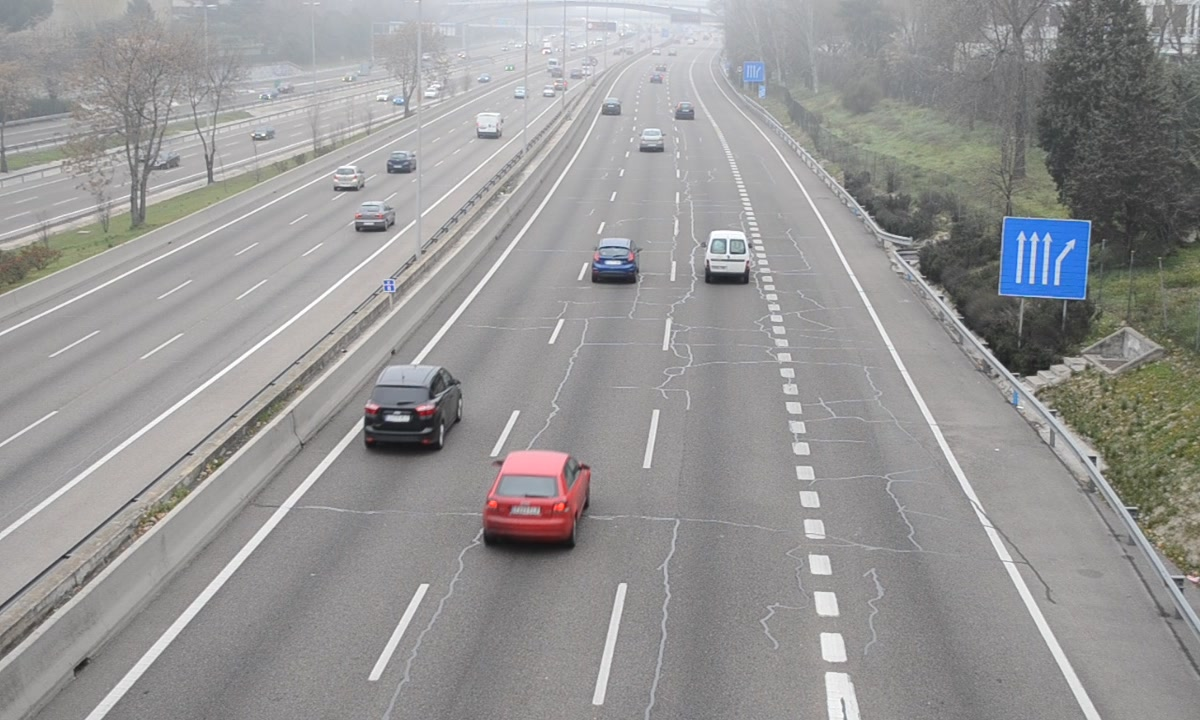car: (485, 452, 587, 542), (362, 366, 461, 448), (593, 236, 638, 281), (638, 126, 663, 152)
van: (706, 229, 750, 280)
